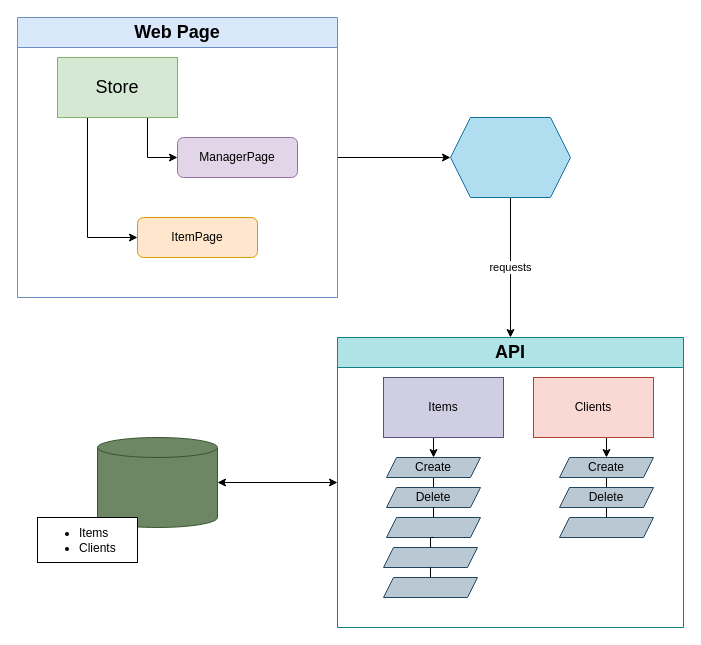
This 701x645 diagram has some shape labels left out. The centre of each missing label's shape, as x and y in pixels:
"Database" goes at pixel 157 482.
"Get Clients" goes at pixel 606 527.
"Get Items" goes at pixel 433 527.
"Interface" goes at pixel 510 157.
"Rent" goes at pixel 430 557.
"Return" goes at pixel 430 587.
